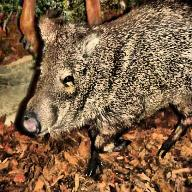boar: (18, 0, 192, 167)
